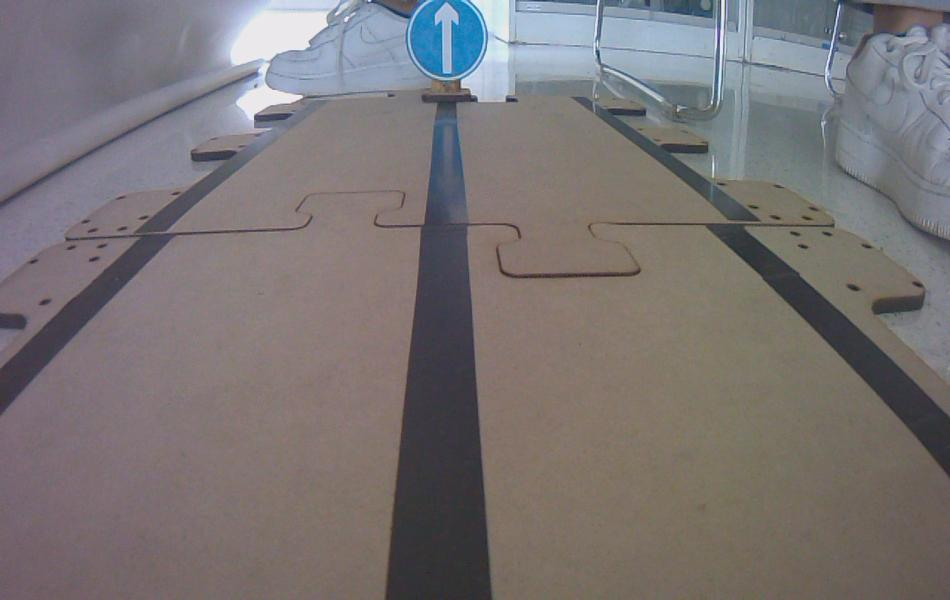straight: (408, 0, 489, 82)
